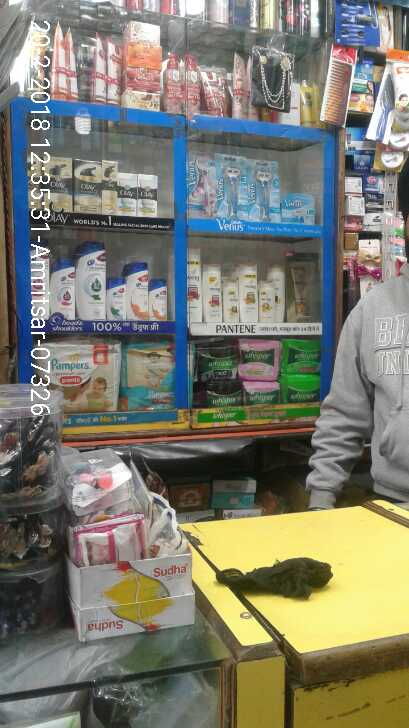venus: (188, 151, 221, 220), (248, 157, 283, 222), (222, 157, 248, 221), (283, 195, 315, 222)
